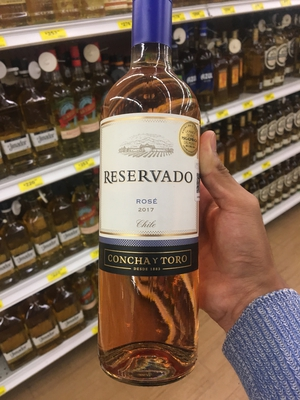reservado rose: (96, 8, 213, 399)
